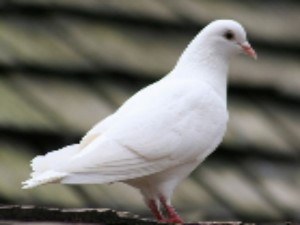pigeon: (18, 16, 260, 224)
